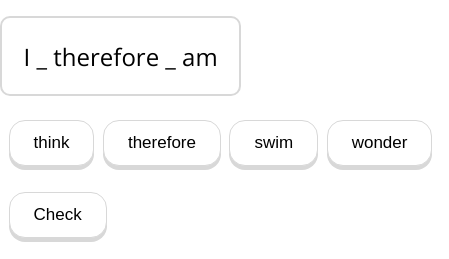
Test: can update the phrase with chosen word
The width and height of the screenshot is (449, 259).
Click the button "think".
click(51, 143)  # box [8,120,94,166]
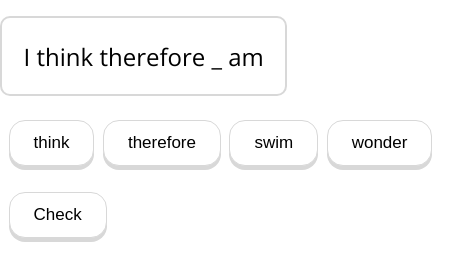
Now the text "I think therefore _ am" is shown, box [0,16,287,96]
Click the button "swim".
click(274, 143)  # box [230,120,318,166]
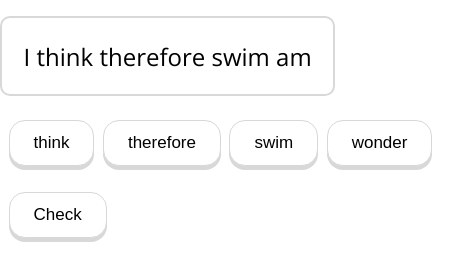
Now the text "I think therefore swim am" is shown, box [0,16,335,96]
